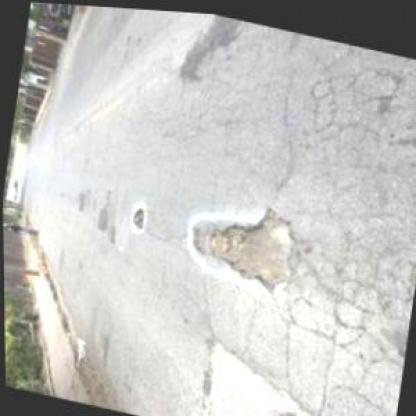pothole: (183, 190, 300, 291), (126, 201, 147, 229)
